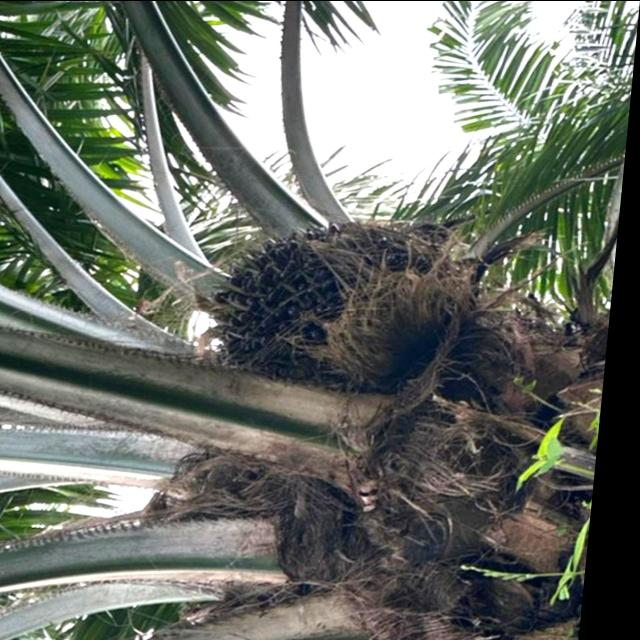almost: (200, 212, 458, 396)
